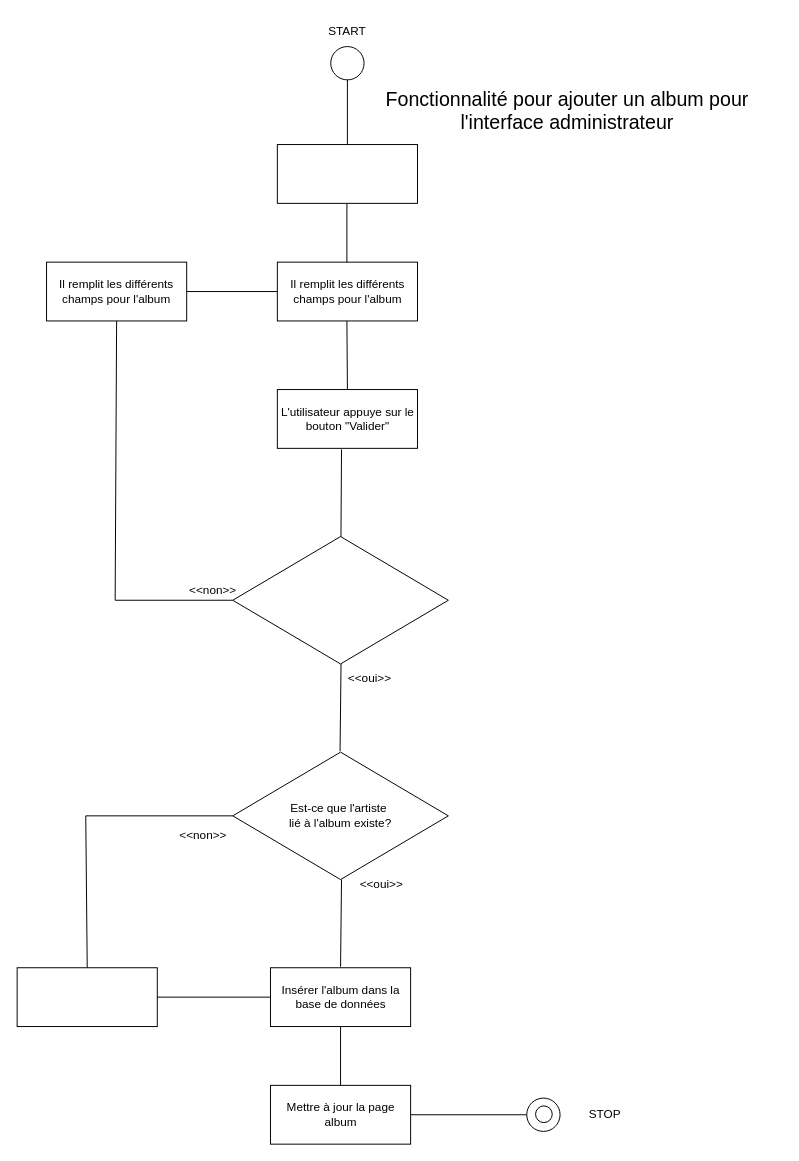
Some shapes in this 799 by 1161 pixel diagram are drawn without their labels. The shapes that lost their labels are listed below. From the top down, each one's centre as x and y in pixels, then its label:
pixel 346 173: L'utilisateur clique sur le bouton "ajouter un album"
pixel 340 600: Est-ce que tous les champs sont correctement validées ?
pixel 86 997: ajouter l'artiste dans la base de données
